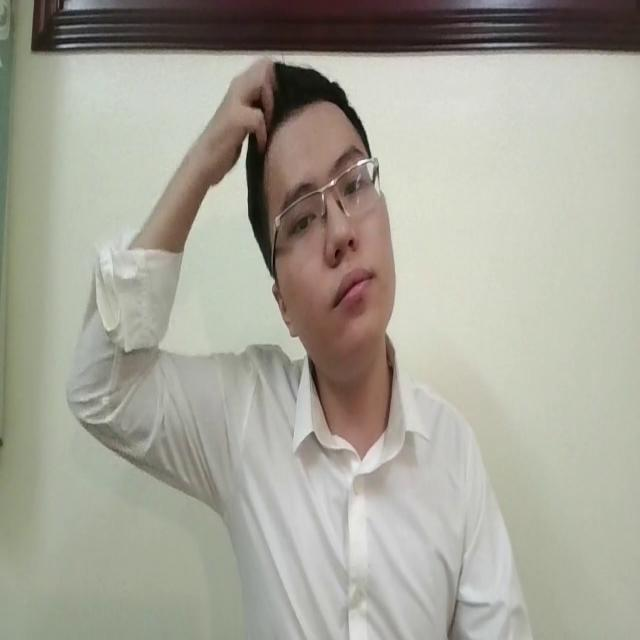student: (50, 62, 532, 640)
